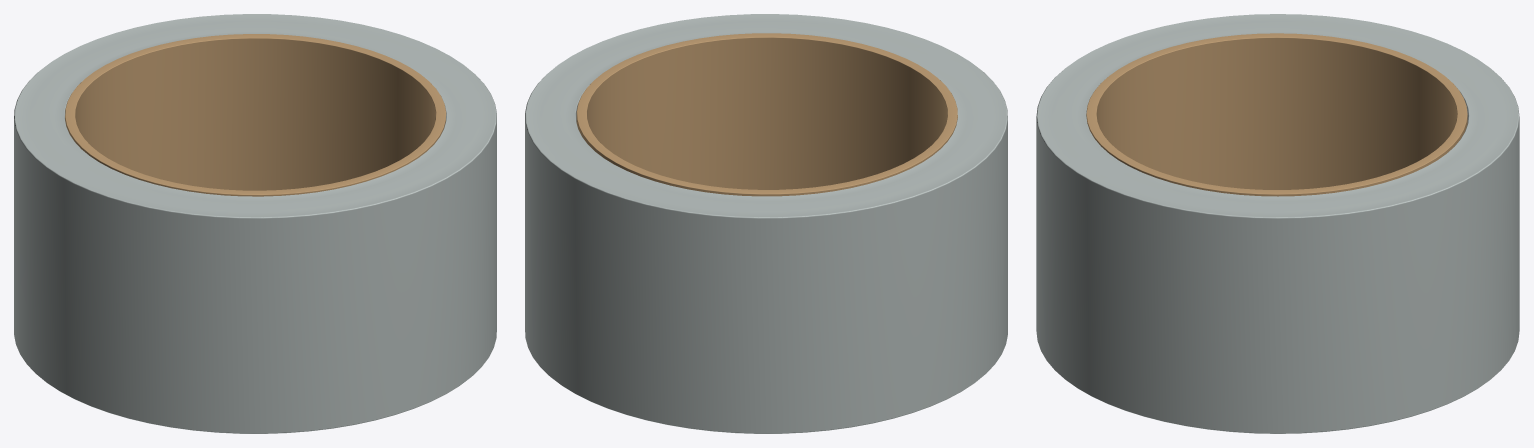
File: tape_clear_a01.glb
The picture shows the model from 3 angles, left to right: view 1: azimuth 30°, elevation 25°; view 2: azimuth 150°, elevation 25°; view 3: azimuth 270°, elevation 25°; orthographic projection.
Size of the model in its own units: 0.0999 by 0.0502 by 0.0999.
